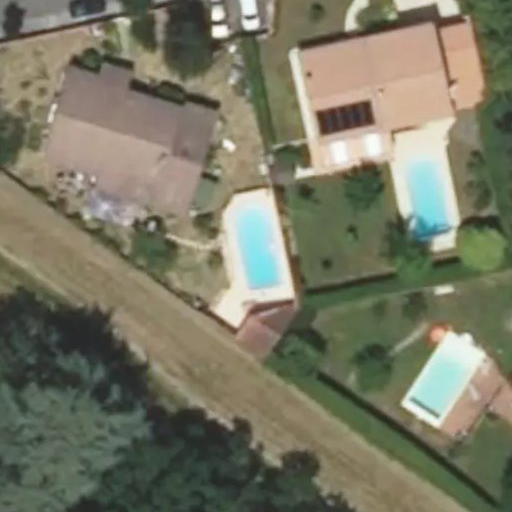pool: (397, 141, 457, 240), (408, 344, 476, 420), (232, 198, 283, 291)
